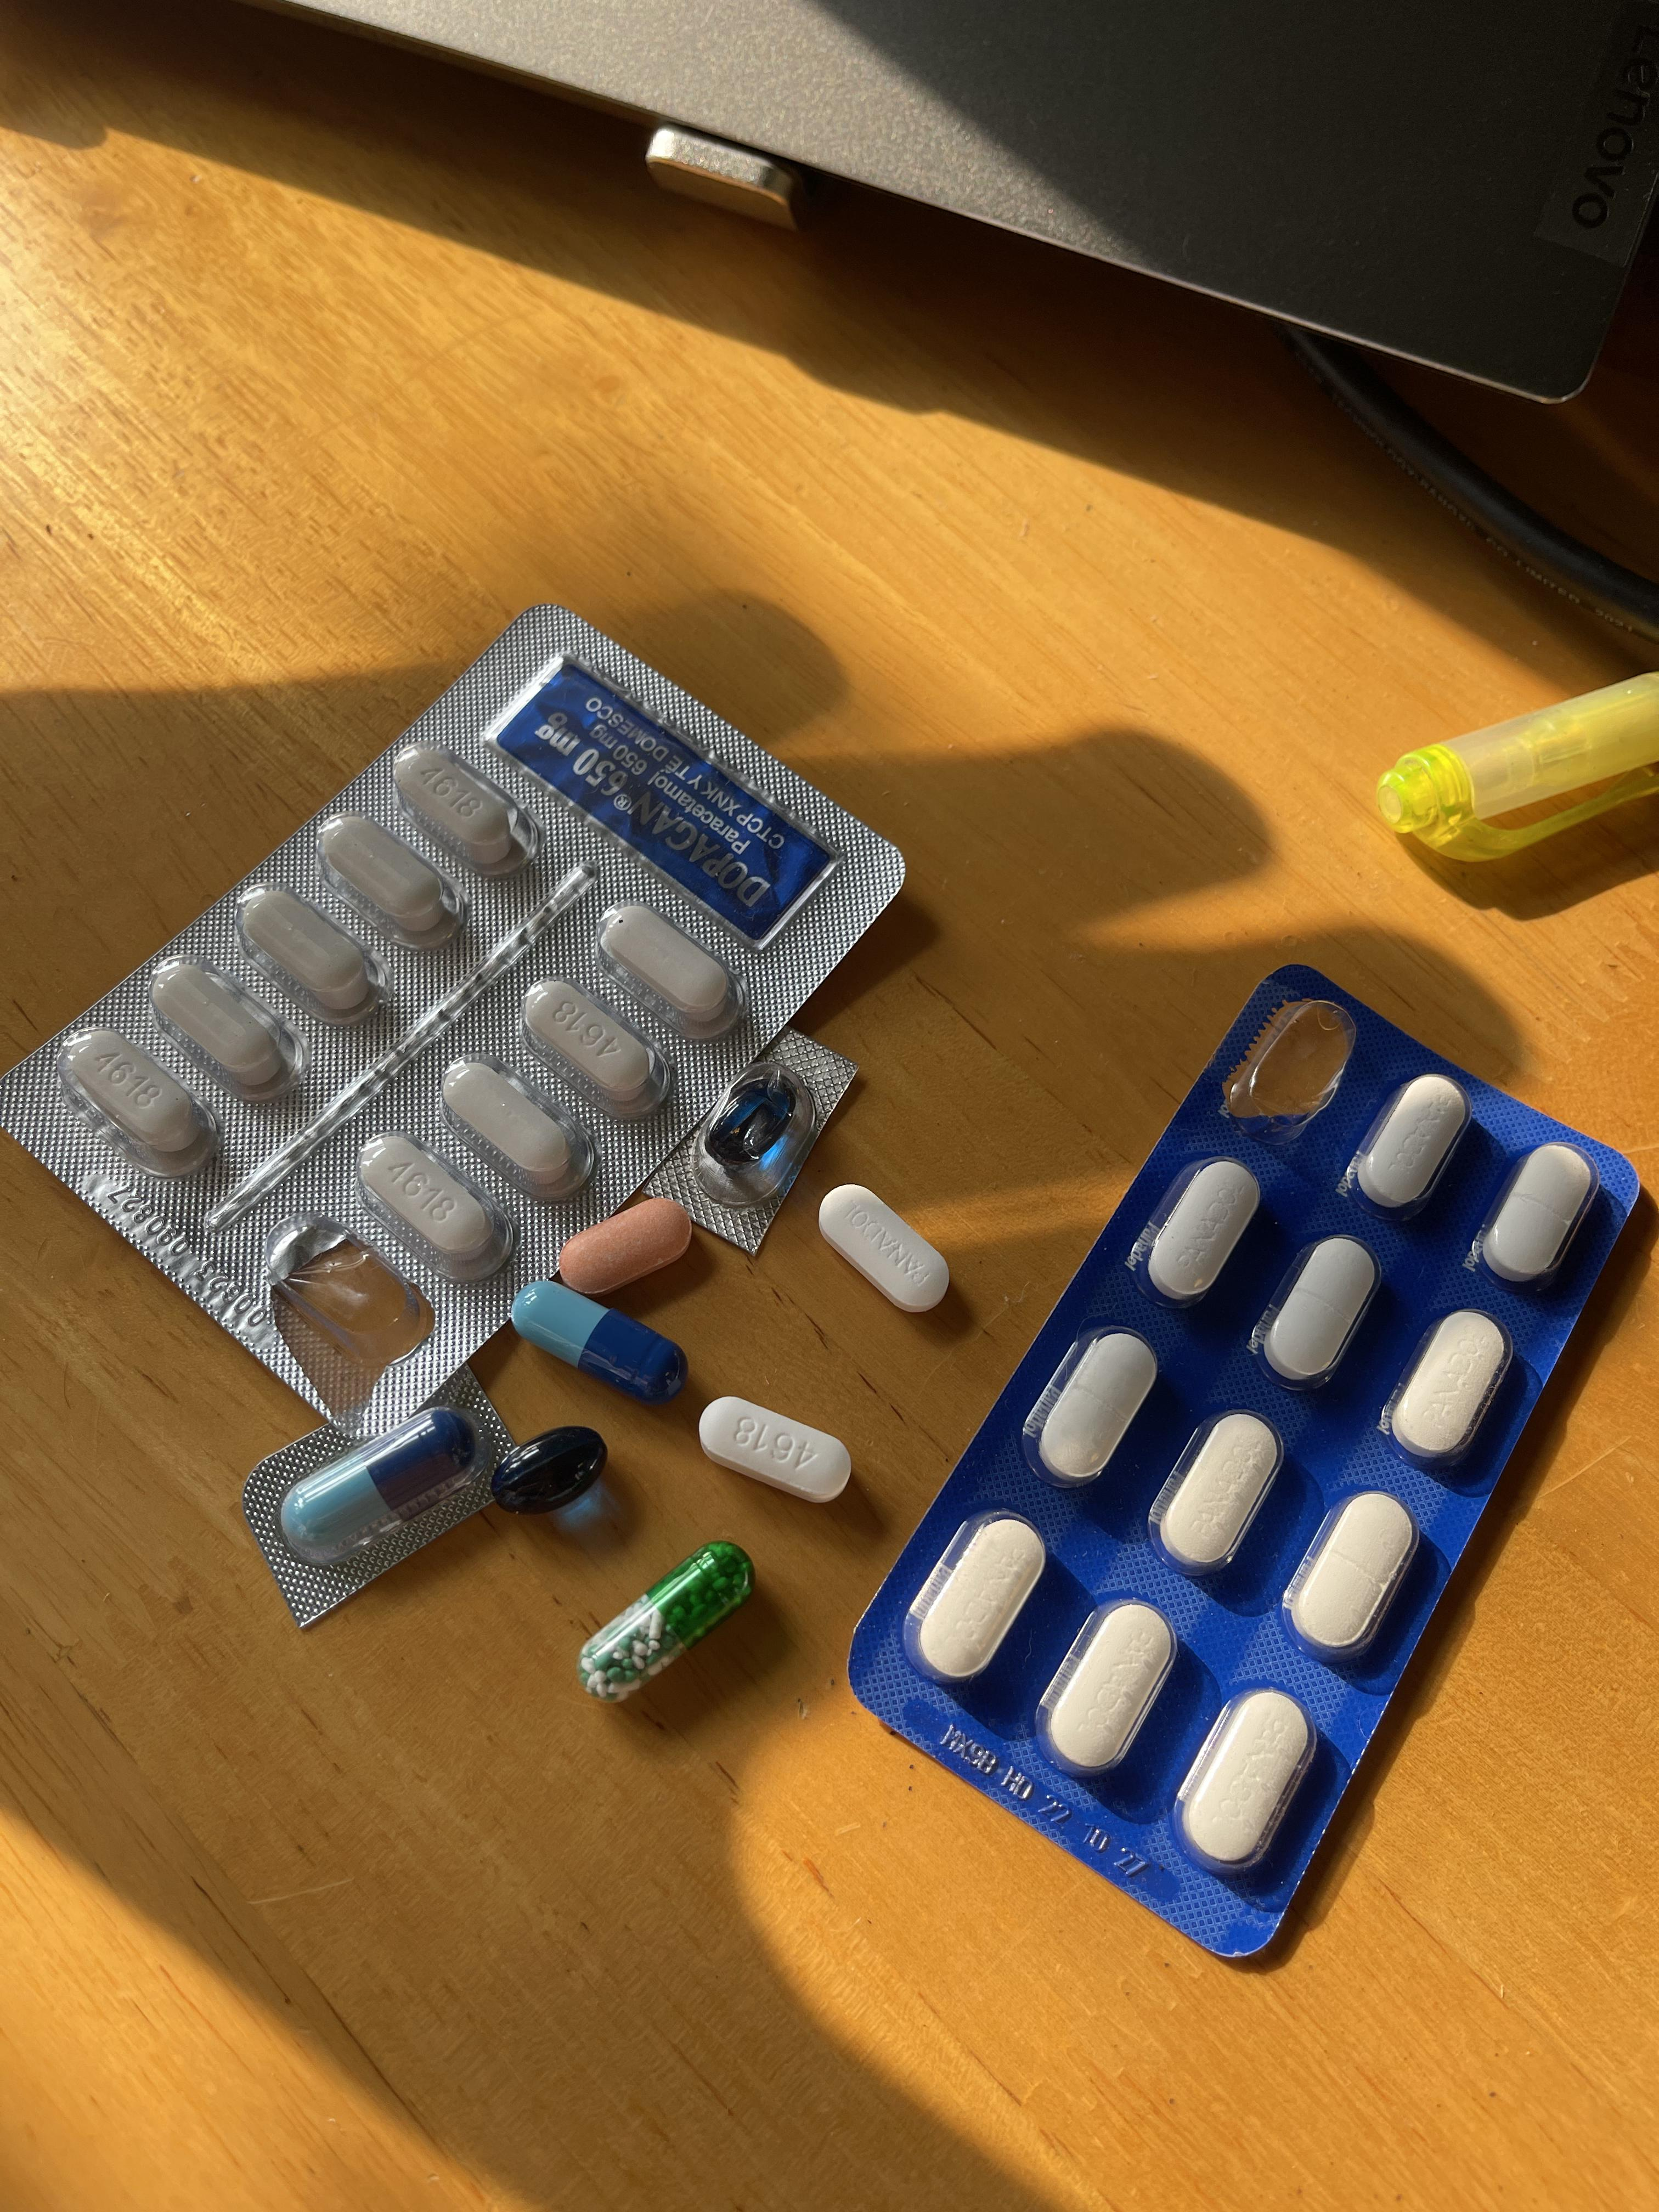Lincomyxin_500mg: (490, 1426, 605, 1512), (709, 1083, 795, 1167)
Loratadine_10mg: (556, 1197, 697, 1291)
Paracetamol_350mg: (1176, 1688, 1321, 1881), (1284, 1489, 1424, 1669), (1040, 1599, 1178, 1780), (911, 1514, 1047, 1684), (1152, 1409, 1286, 1580), (1387, 1305, 1518, 1474), (1030, 1329, 1159, 1491), (1255, 1235, 1382, 1395), (1476, 1136, 1598, 1292), (1349, 1071, 1473, 1221), (1140, 1158, 1262, 1310), (816, 1186, 951, 1315)
Paracetamol_500mg: (443, 1052, 598, 1204), (357, 1132, 509, 1284), (235, 881, 387, 1028), (521, 975, 671, 1120), (152, 960, 295, 1101), (396, 740, 542, 876), (319, 812, 462, 948), (601, 904, 739, 1038), (699, 1397, 849, 1505)
Paracetamol_650mg: (580, 1543, 753, 1702)
pill: (281, 1411, 474, 1555), (516, 1280, 685, 1400)
